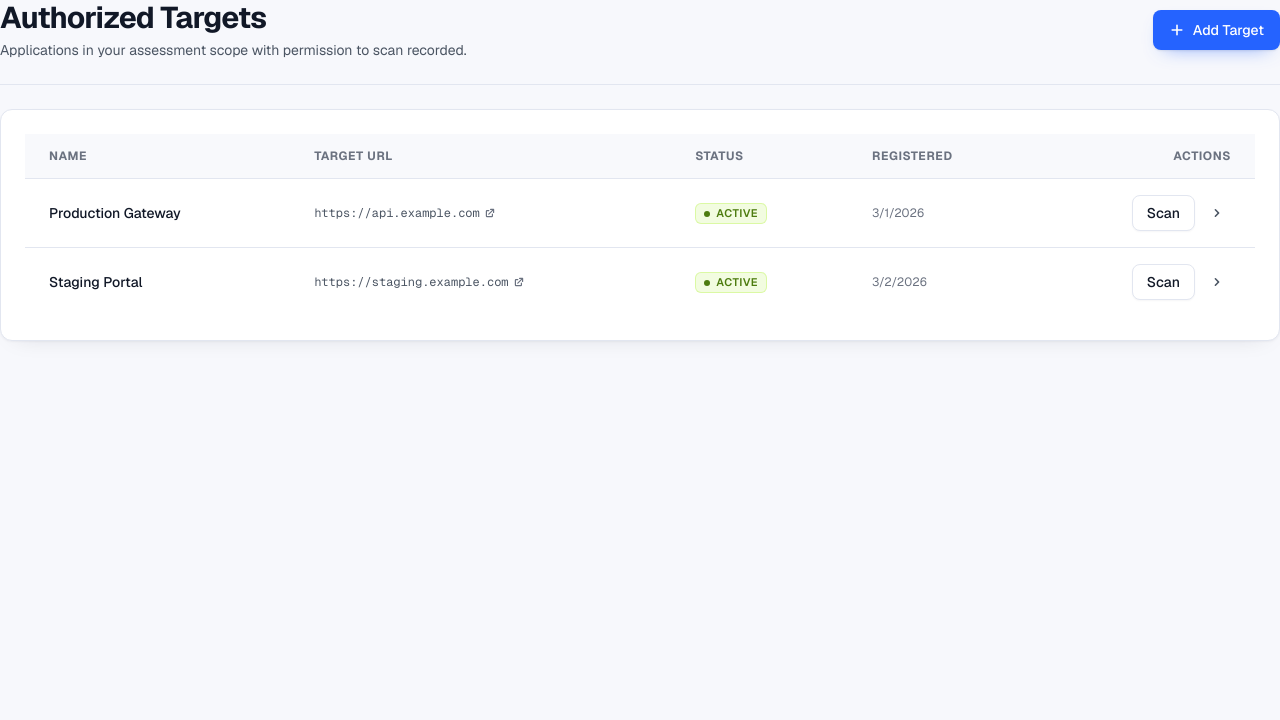
Test: Targets Management Flow › handles backend validation/conflict errors gracefully
Check: the link "Production Gateway" is shown, box [49,204,181,222]
Click the button "Add Target" at (1216, 30), box [1153,10,1279,50]
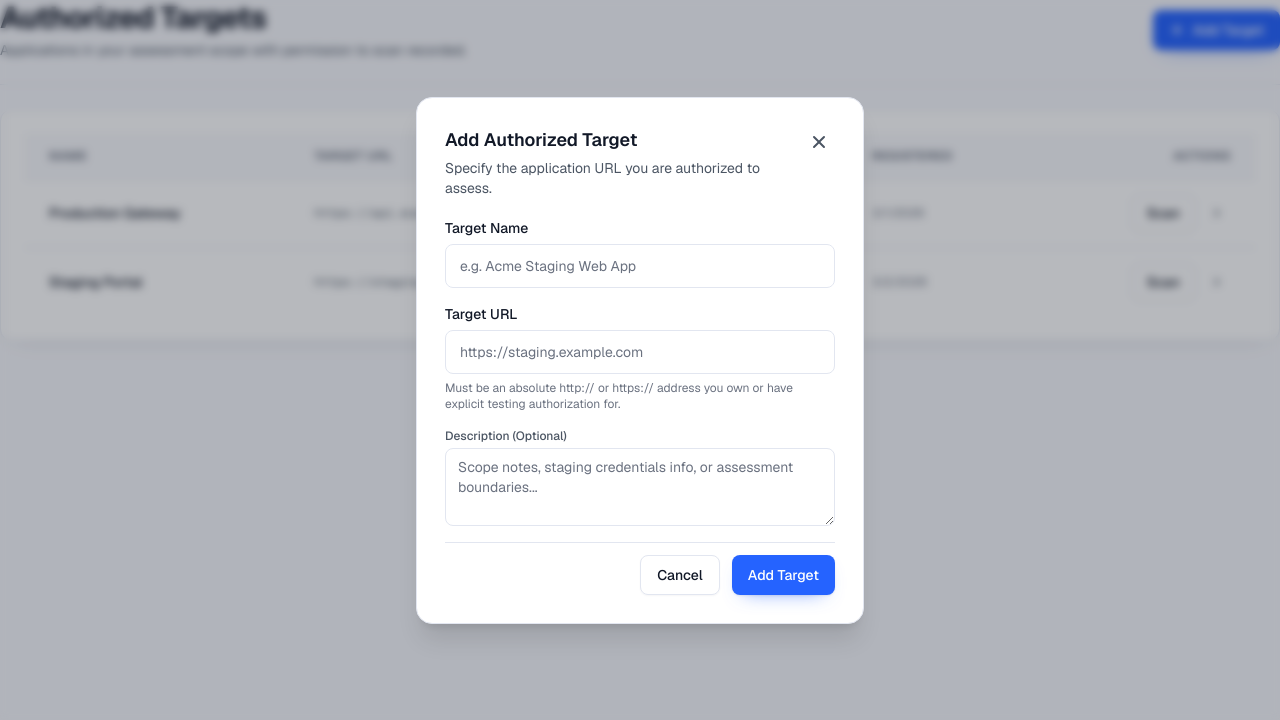
Check: the dialog is shown
Type "Duplicate" into the field labelled "Target Name" at (640, 266), box [445,244,835,288]
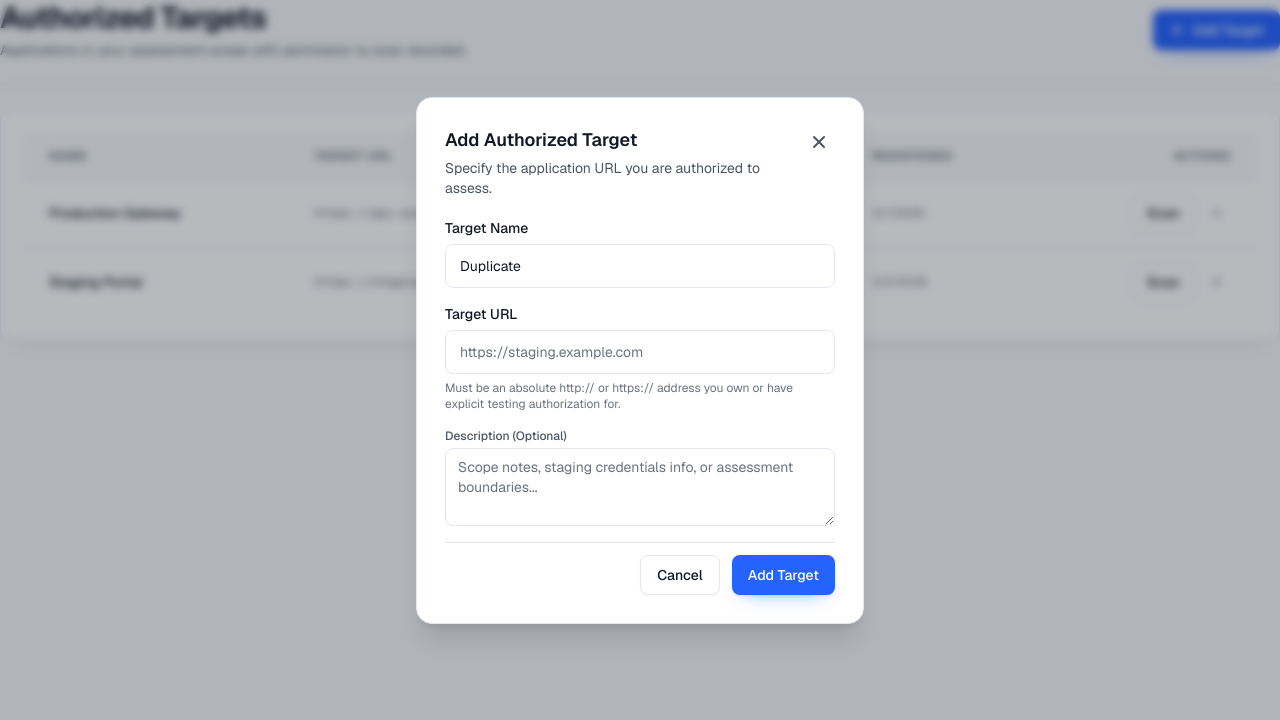
Type "https://api.example.com" into the field labelled "Target URL" at (640, 352), box [445,330,835,374]
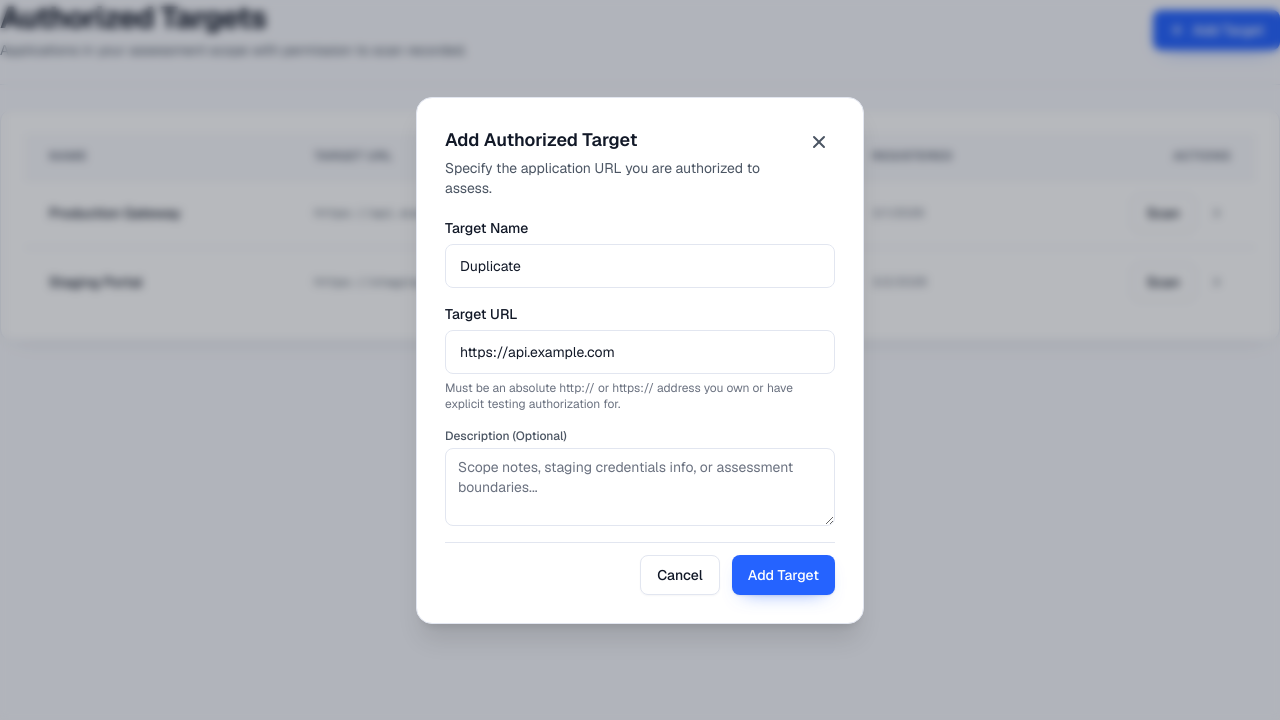
Click the button "Add Target" at (783, 574), box [732,554,835,594]
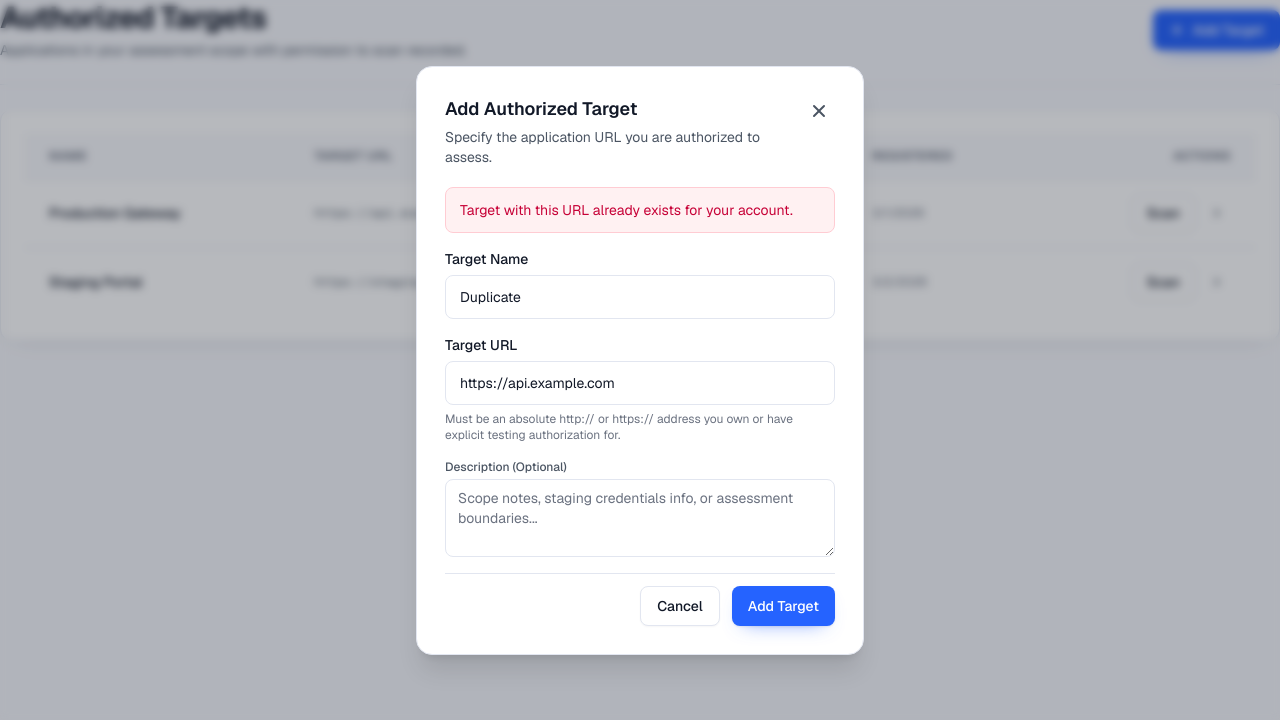
Check: the text "Target with this URL already exists for your account." is shown, box [460,200,820,220]
